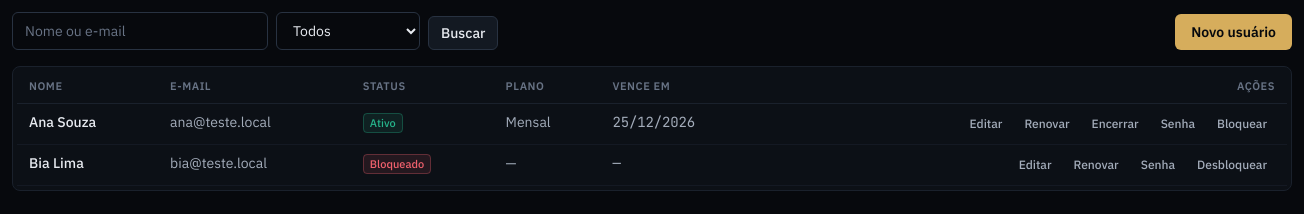
Test: GestaoUsuarios › encerrar assinatura pede confirmação e envia POST /api/admin/assinaturas/{id}/encerrar
Later steps or results of the test are not shown.
Click the button with aria-label "Encerrar assinatura de Ana Souza": (1115, 124) top-left (1084, 112), bottom-right (1147, 136)
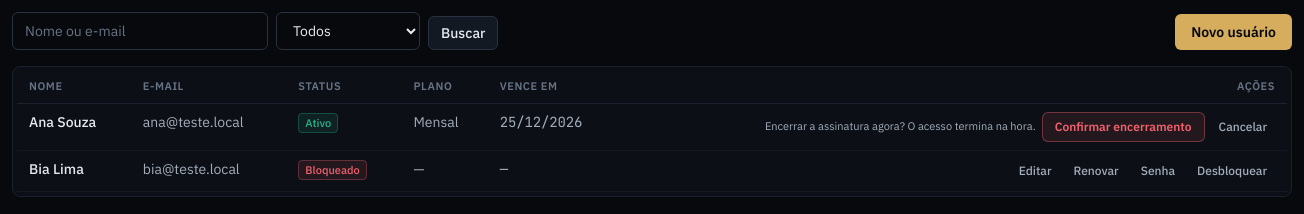
Check: the text "Encerrar a assinatura agora? O acesso termina na hora." is shown, box top-left (765, 119), bottom-right (1036, 134)
